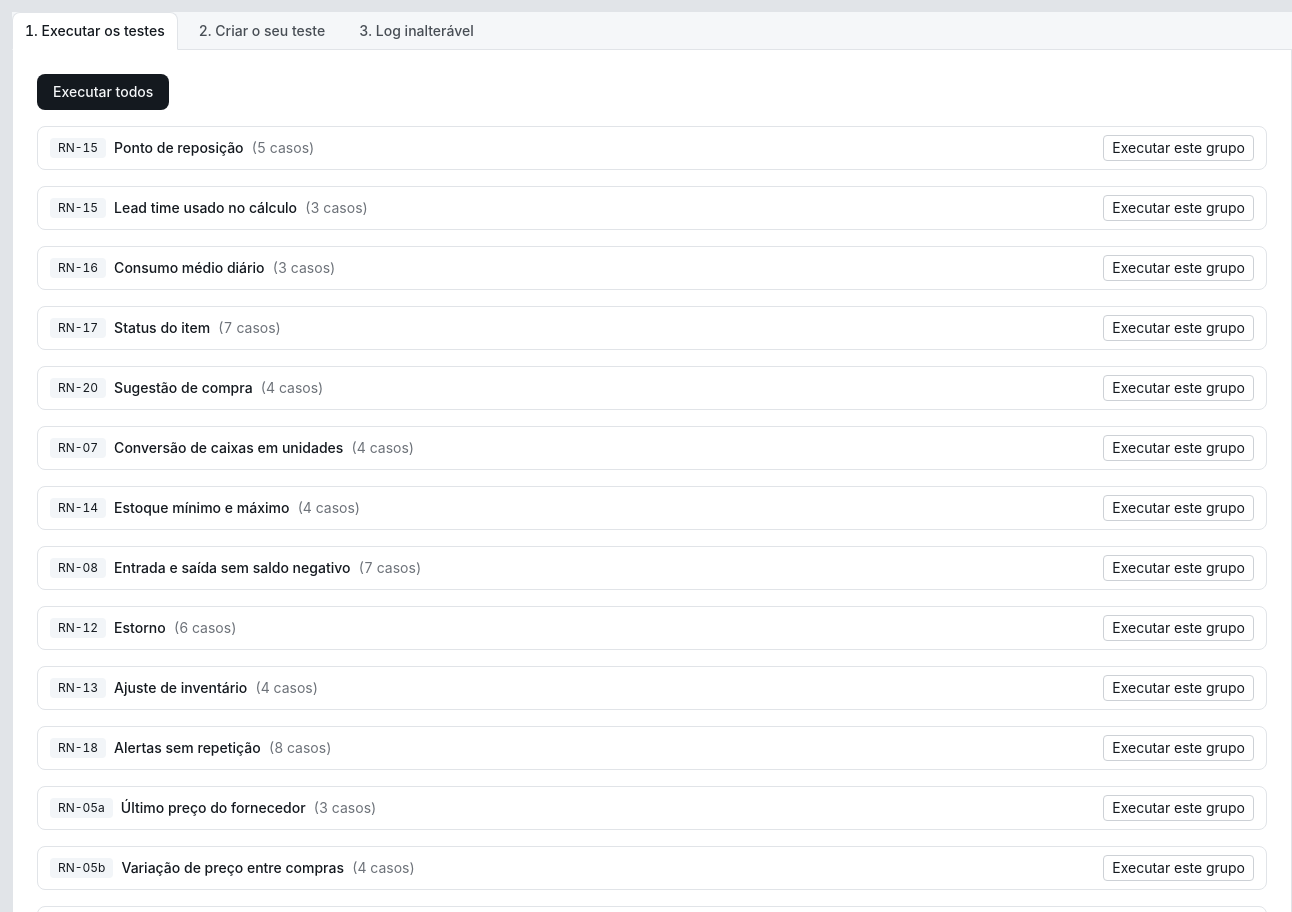
RNF-13 · Laboratório de testes (interface) › aba 2: esperado errado mostra que o teste falhou
Click the tab "2. Criar o seu teste" at [262, 31], box [186,12,338,50]
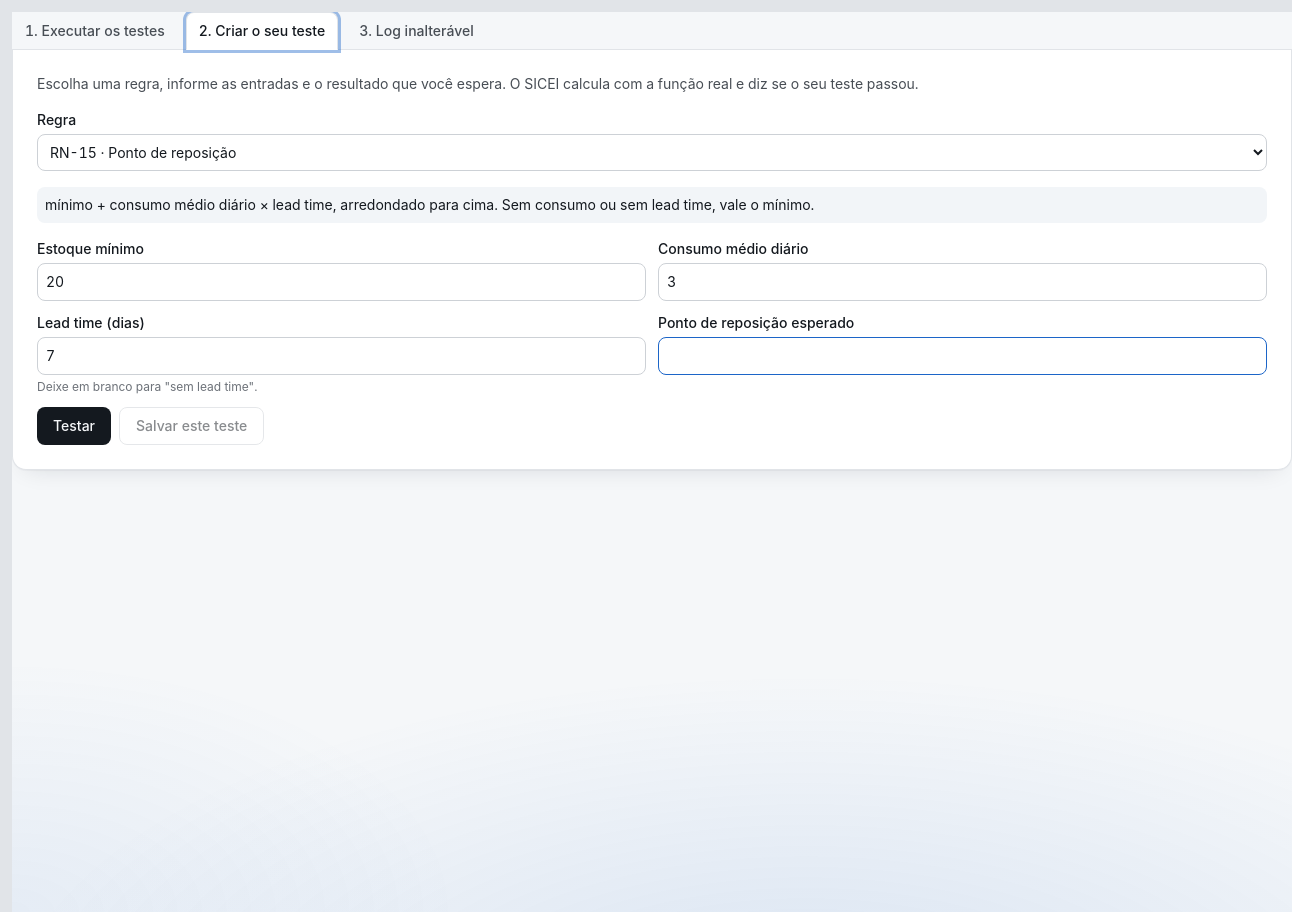
Type "40" into the field labelled "Ponto de reposição esperado" at [962, 356], box [658,337,1267,375]
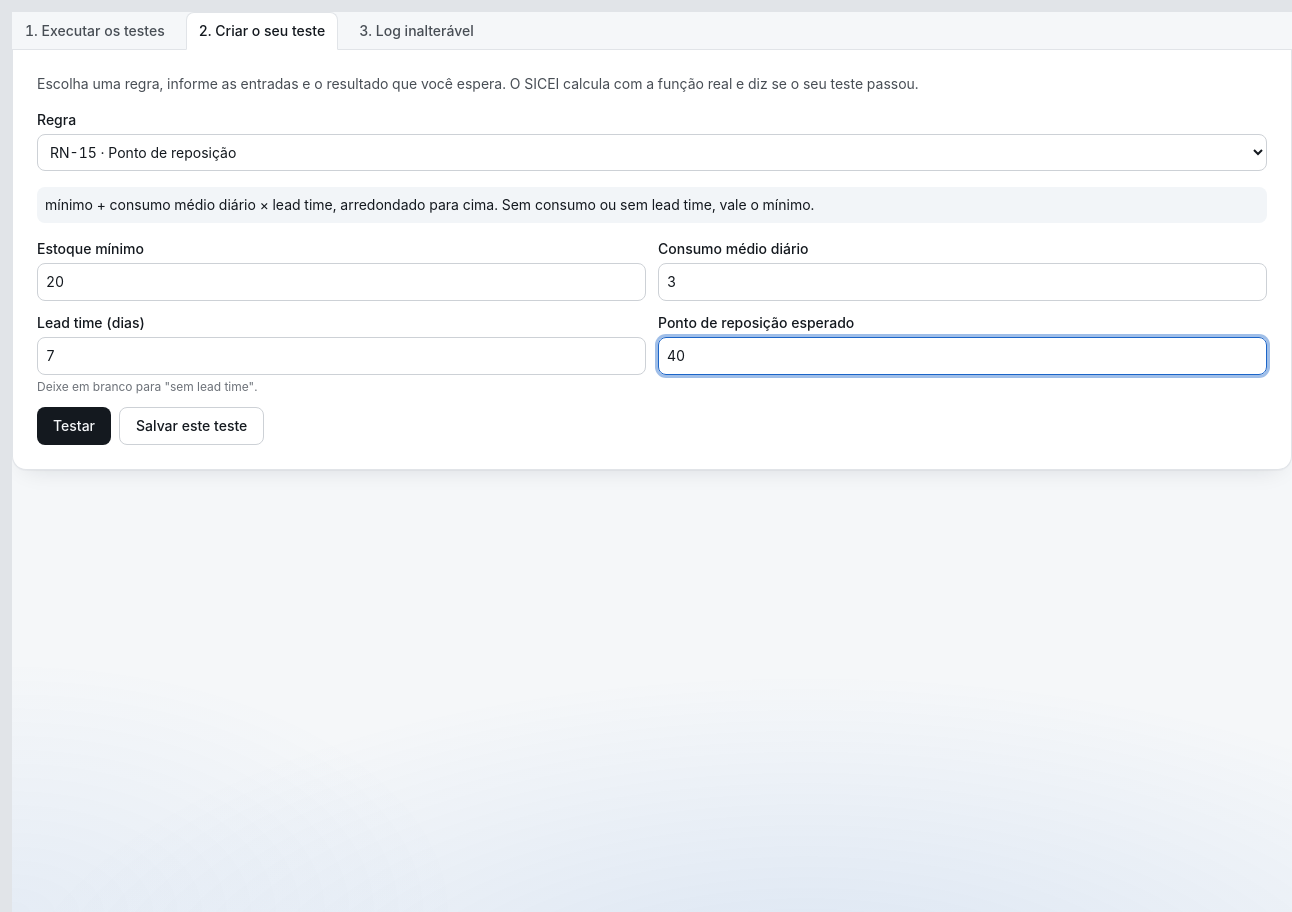
Click the button "Testar" at [74, 426], box [37,407,111,445]
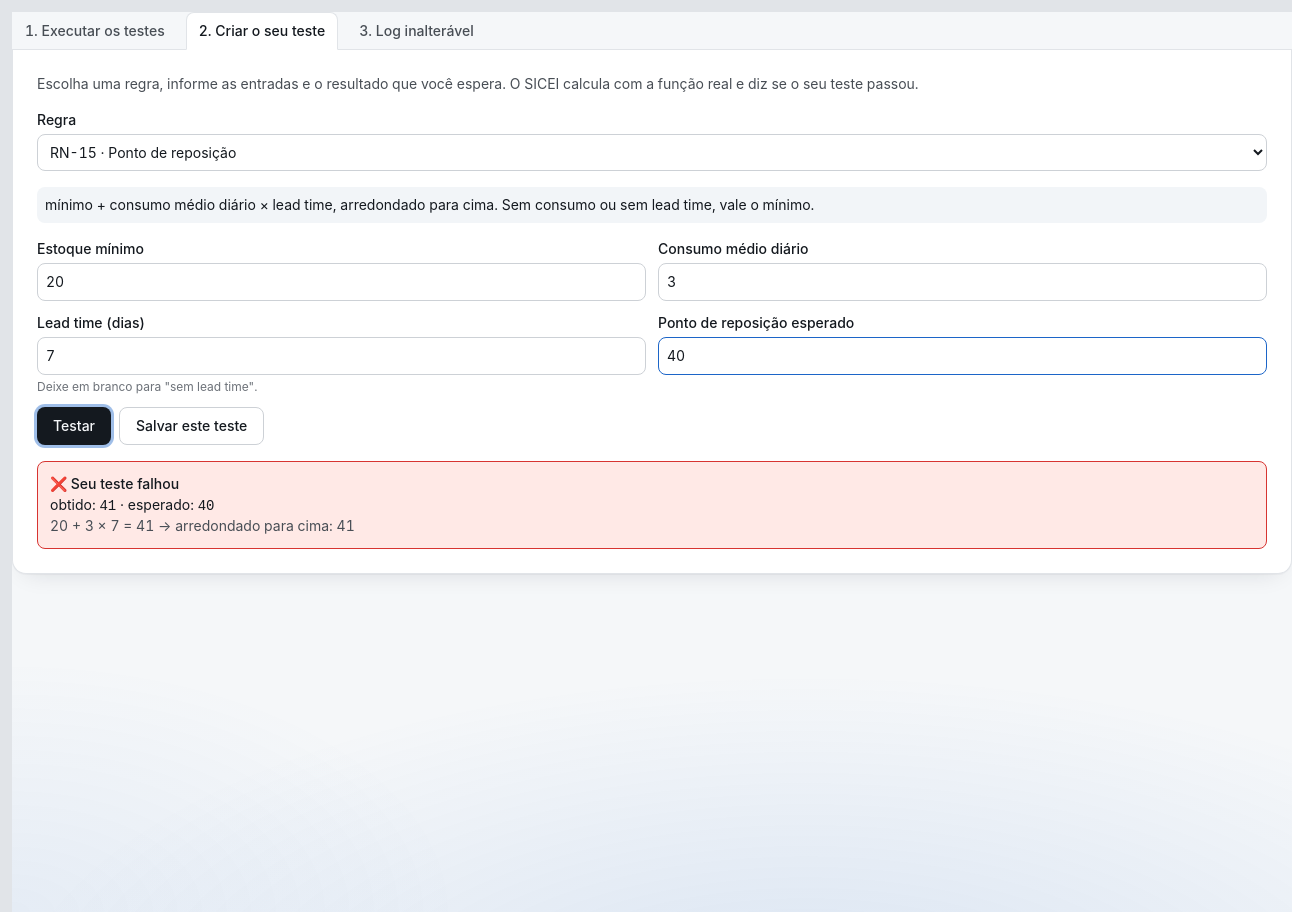
Expected: the text "❌ Seu teste falhou" is shown, [50,475,179,492]
